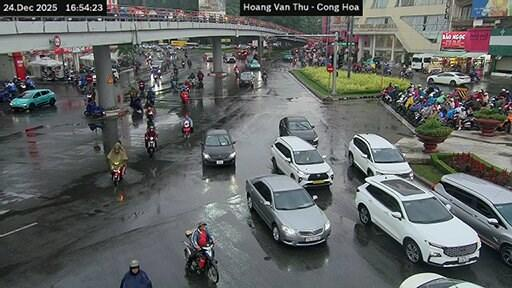motorbike: (189, 243, 217, 282), (83, 103, 105, 116), (182, 229, 192, 257), (460, 113, 477, 129), (498, 112, 511, 131), (112, 162, 121, 185), (131, 100, 143, 115), (182, 121, 191, 138), (147, 136, 154, 157), (25, 77, 35, 89), (179, 90, 188, 103), (470, 72, 479, 81), (147, 108, 153, 121), (400, 70, 412, 76), (170, 77, 176, 89), (138, 81, 144, 90), (195, 79, 202, 86), (234, 68, 239, 77), (383, 67, 390, 73), (186, 59, 191, 67), (262, 73, 265, 84), (181, 61, 185, 67)
